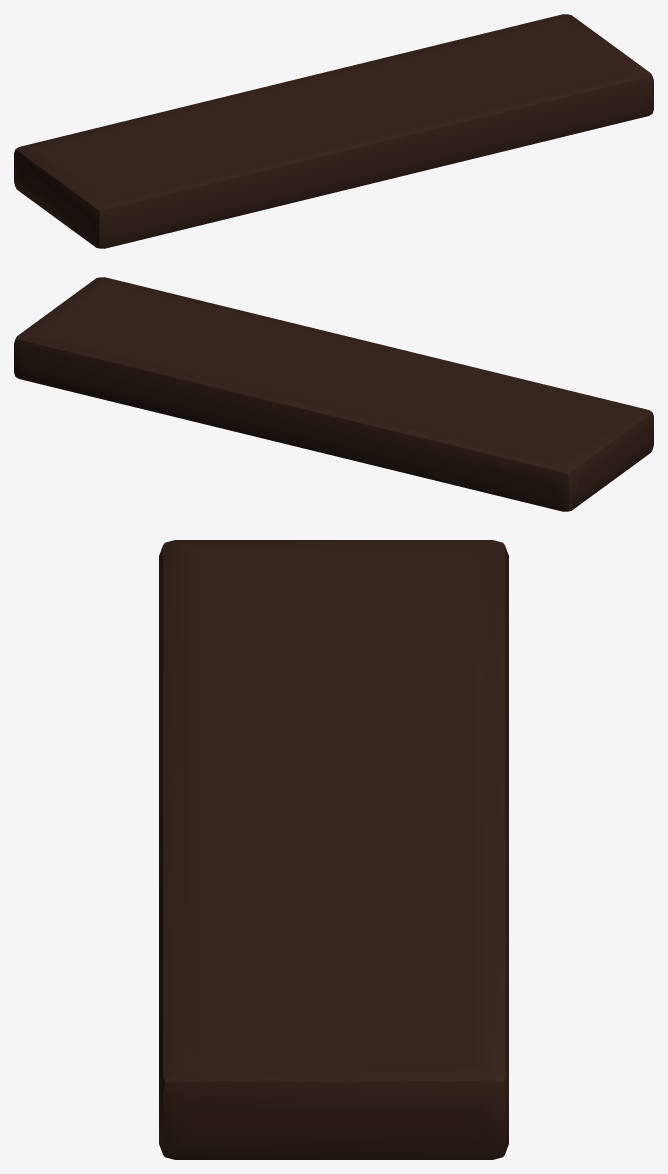
Rendered from WoodenPlank.fbx.
3 views of the same model, one above another, from view 1: azimuth 30°, elevation 25°; view 2: azimuth 150°, elevation 25°; view 3: azimuth 270°, elevation 25° (orthographic). The views are drawn at different scales.
Parts seen in each view (by area): view 1: Box011; view 2: Box011; view 3: Box011.
Boxes of the visible parts, <box> form: Box011: <box>14,14,653,248</box>; Box011: <box>14,277,653,511</box>; Box011: <box>159,540,508,1159</box>.
Size of the model in its own units: 81.67 by 6 by 22.17.
